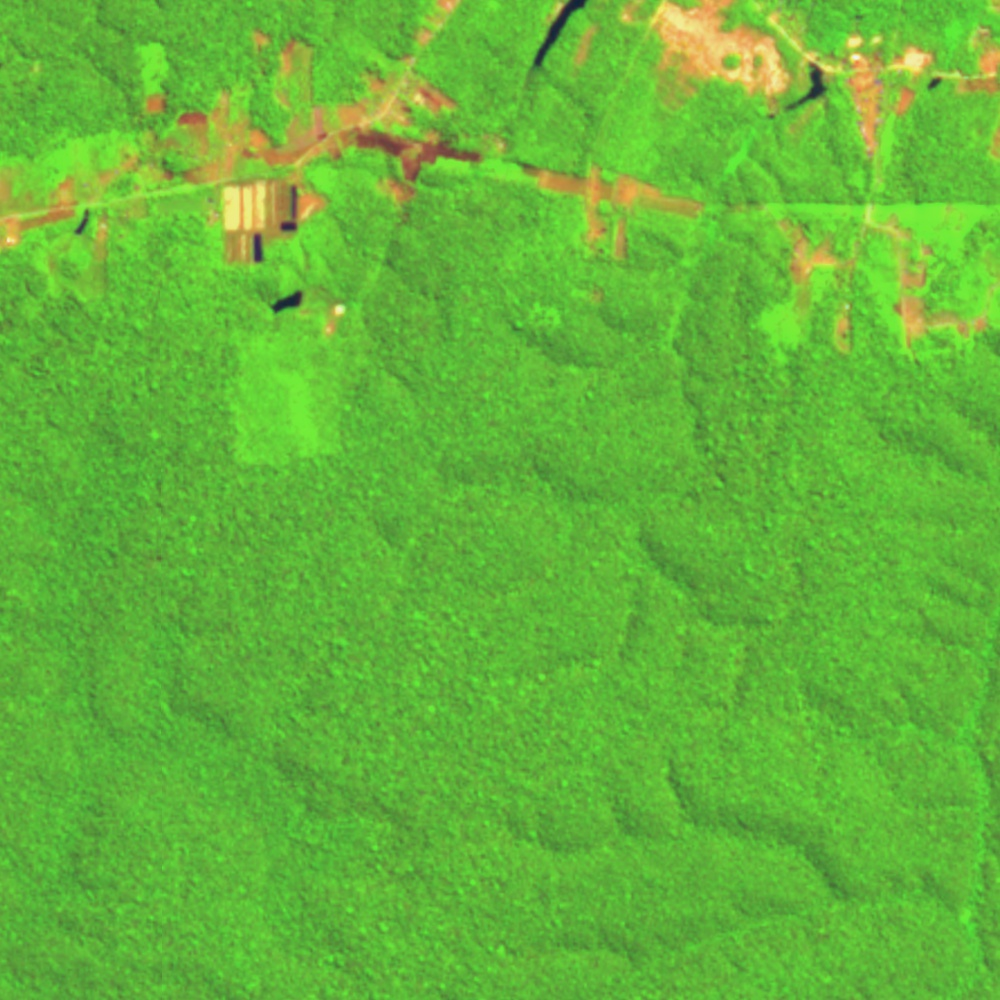legal: (1, 1, 509, 266), (645, 1, 1000, 165), (741, 201, 1000, 356), (509, 153, 704, 263), (527, 1, 650, 77), (266, 289, 356, 338)
